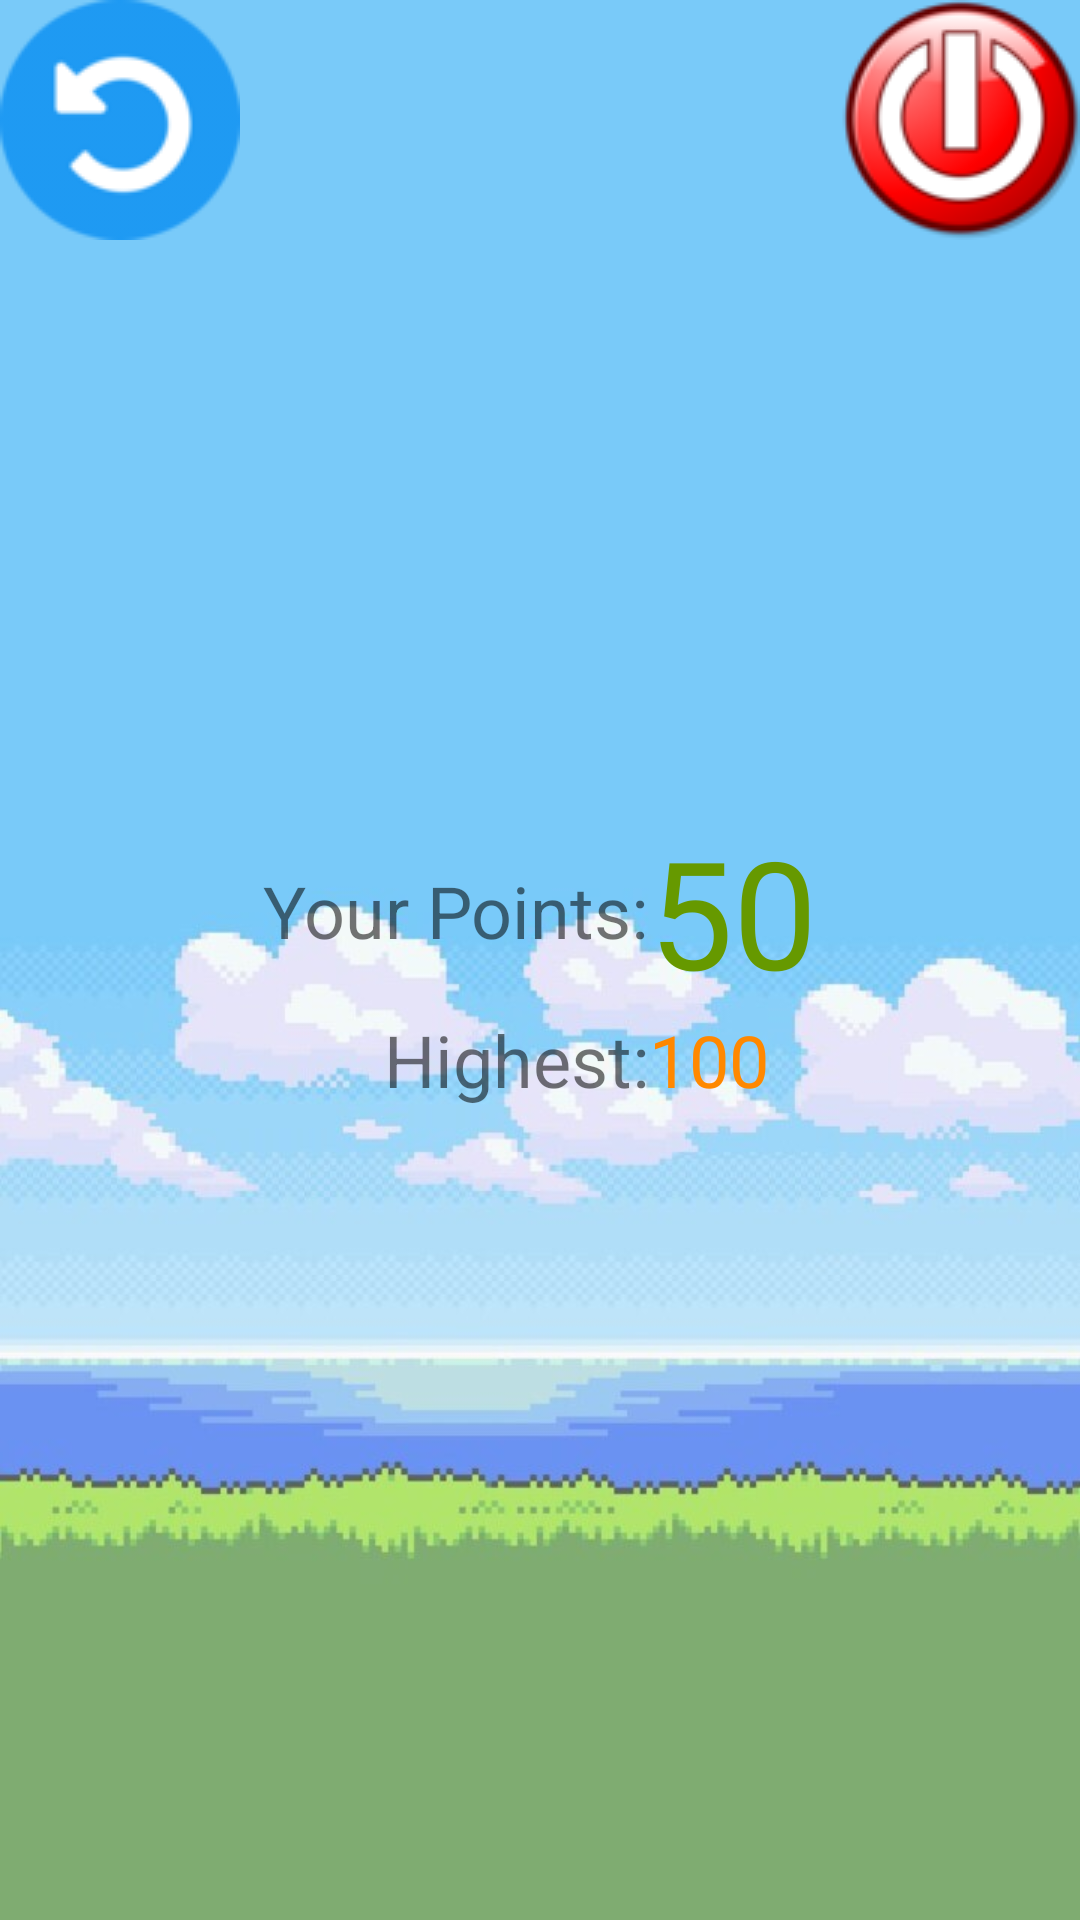

Point at icon controls on the screen. Image size 1080x1920, points as [x,y].
exit: [962,119]
restart: [120,120]
